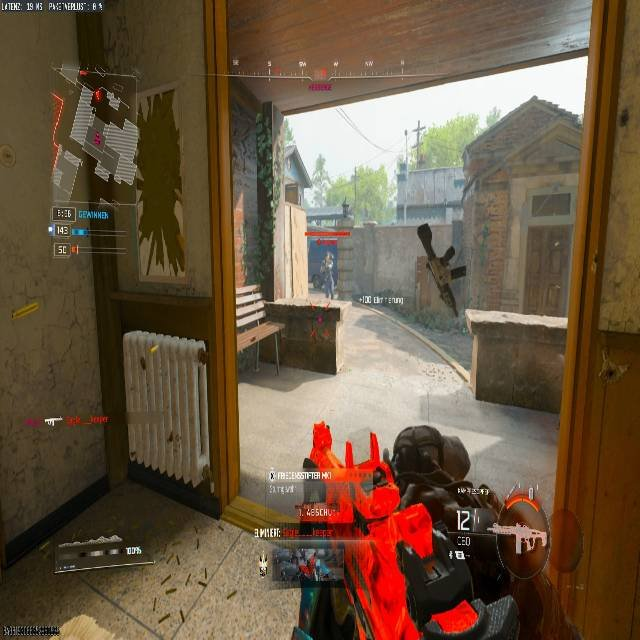head: (389, 425, 470, 488)
player: (353, 424, 549, 639), (321, 252, 335, 295)
